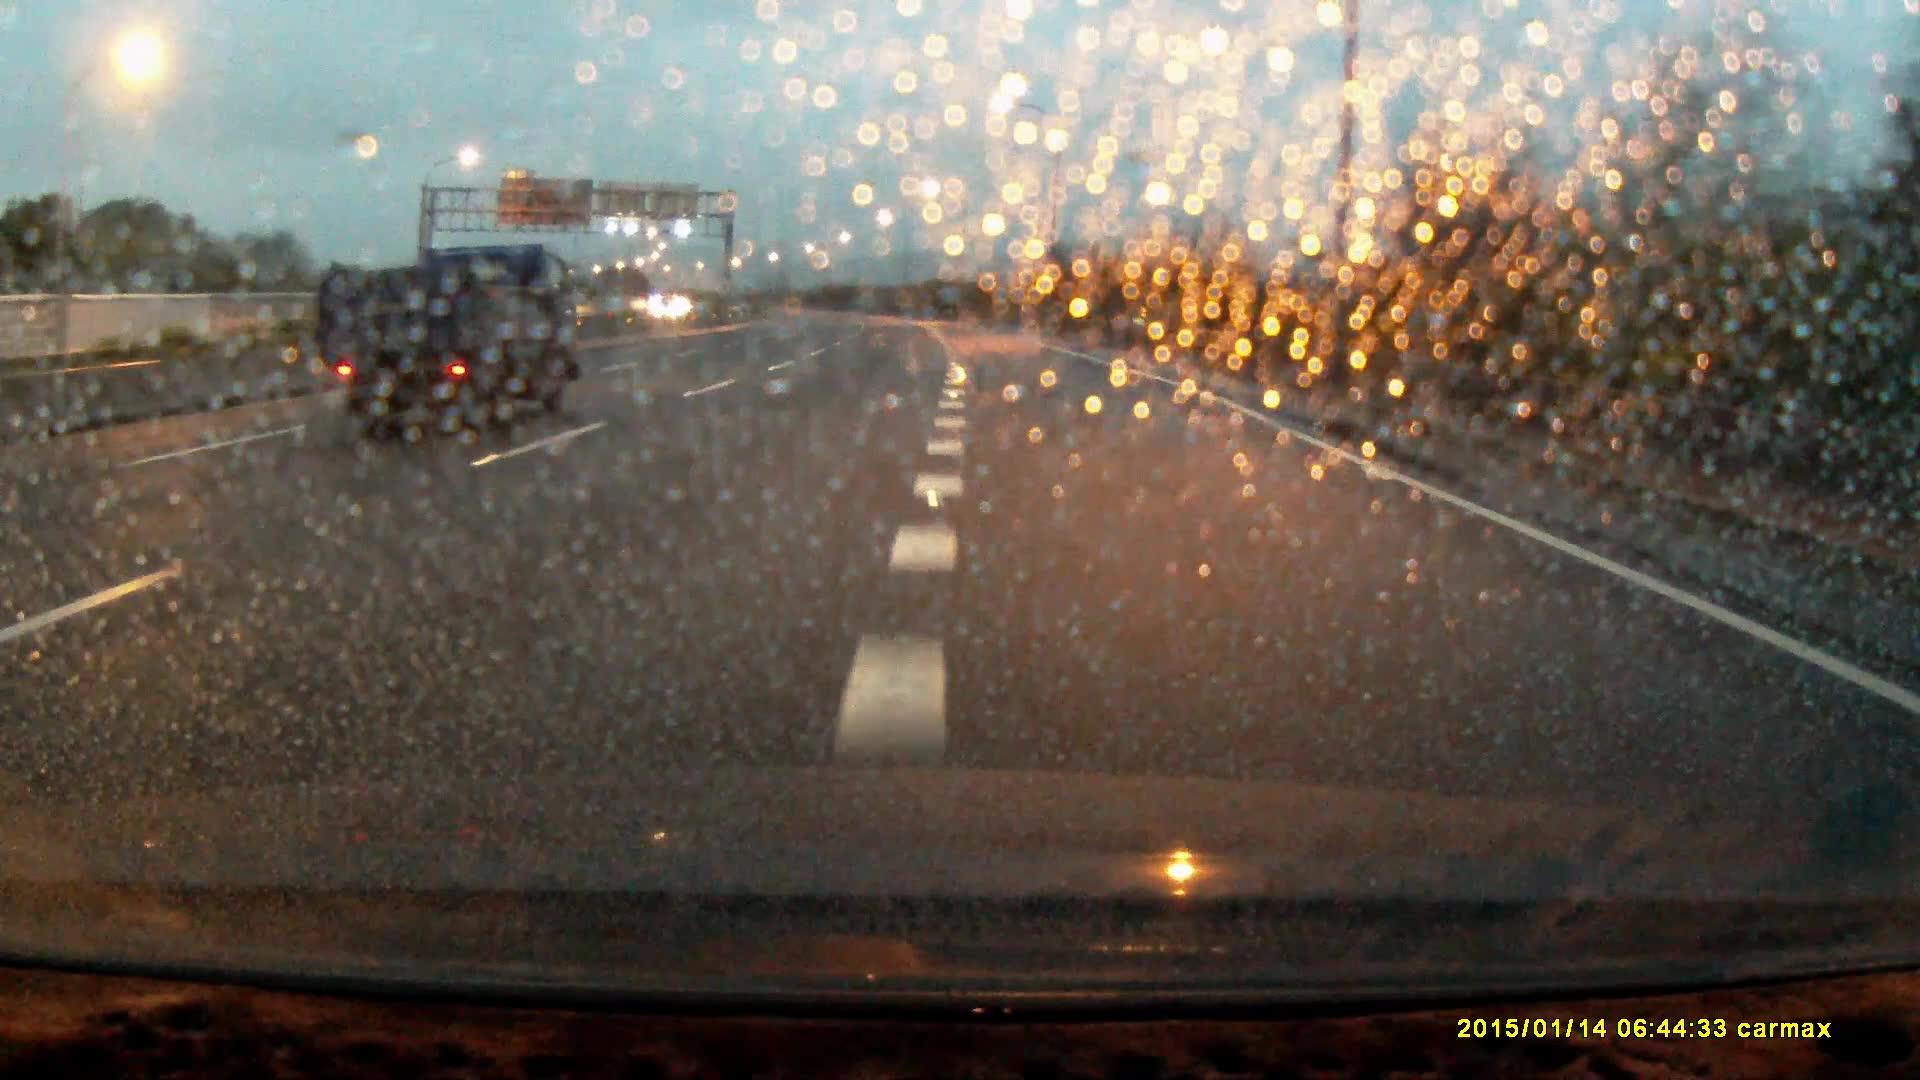vehicle: (318, 237, 564, 435)
